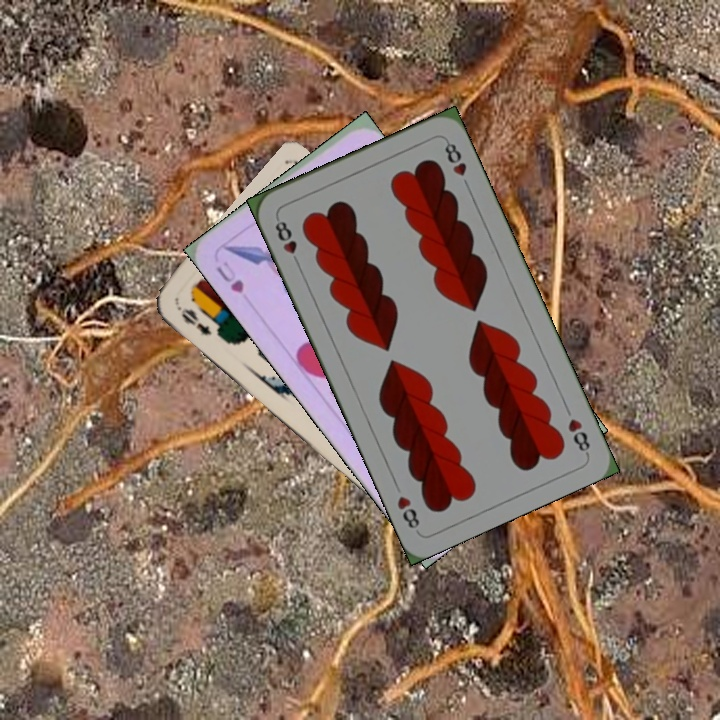EO: (172, 301, 214, 338)
H8: (271, 213, 303, 269), (564, 414, 593, 457)
HU: (212, 257, 247, 297)
